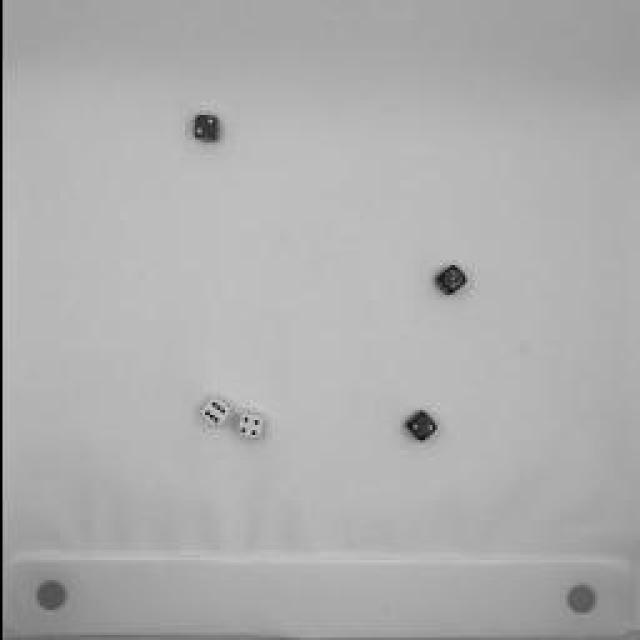dice_1: (425, 254, 475, 306)
dice_2: (180, 106, 225, 146), (400, 405, 440, 447)
dice_4: (231, 406, 271, 446)
dice_6: (192, 391, 238, 434)
